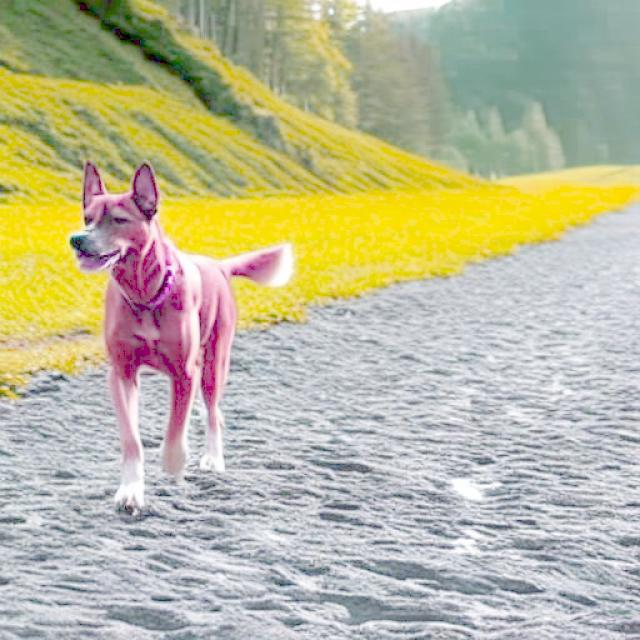Dog: (69, 160, 293, 516)
